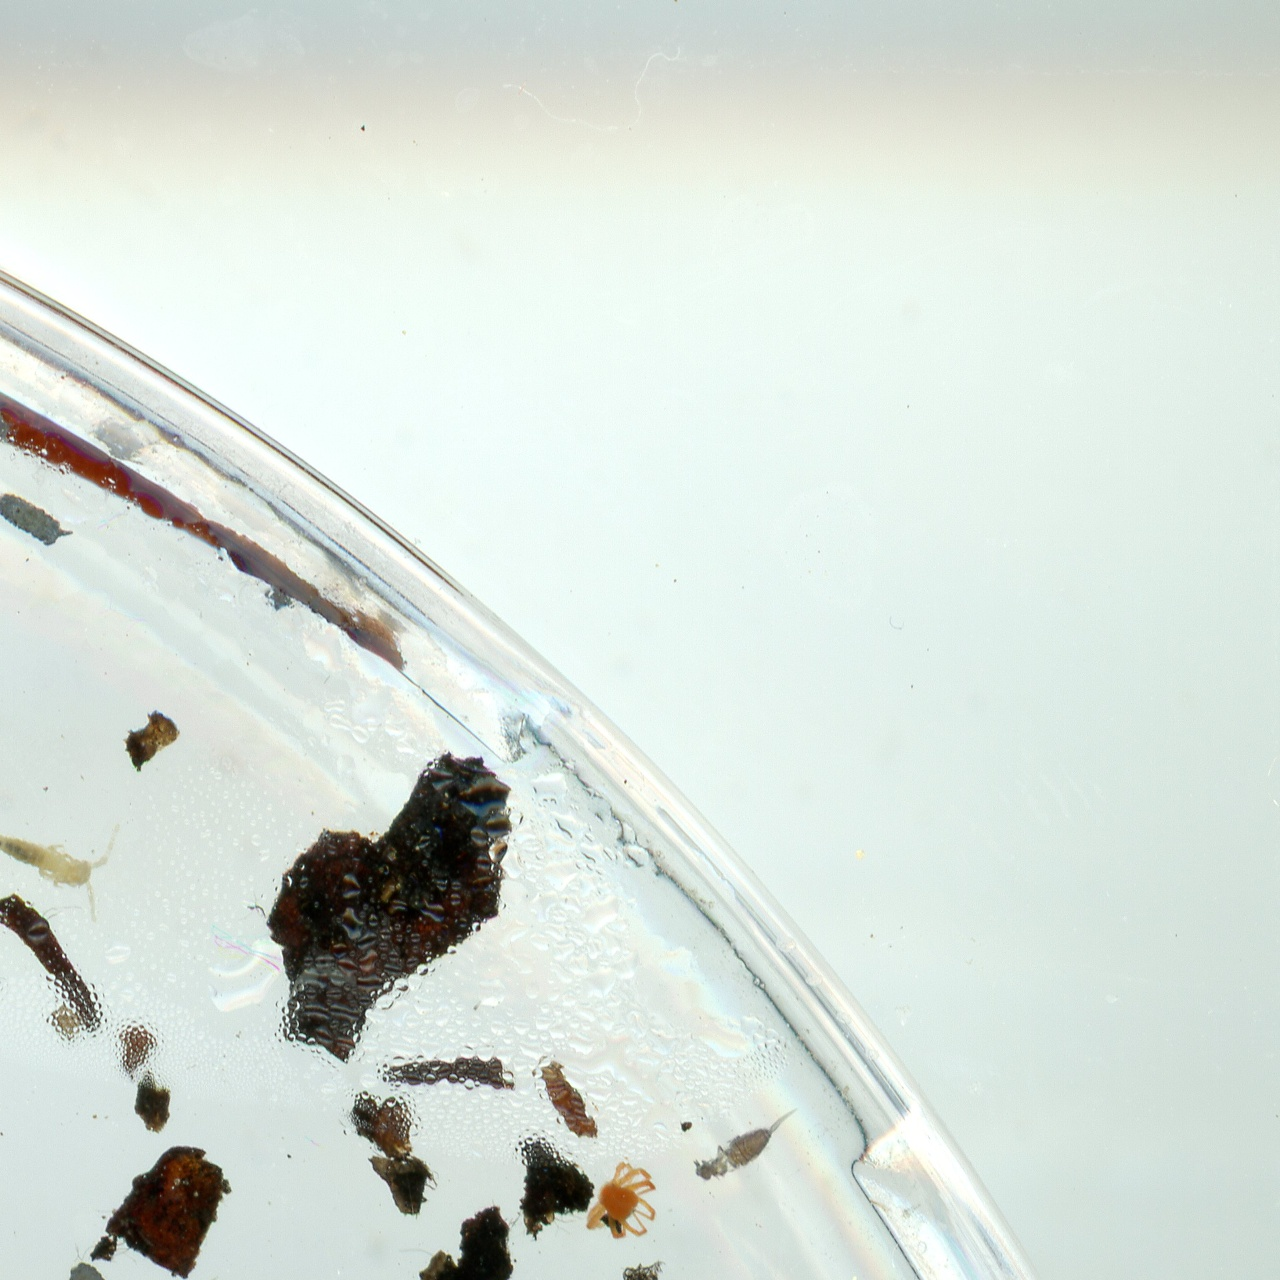arthropod: (0, 782, 131, 928), (683, 1092, 818, 1196), (576, 1152, 678, 1260), (0, 477, 86, 563), (54, 1249, 145, 1280)
